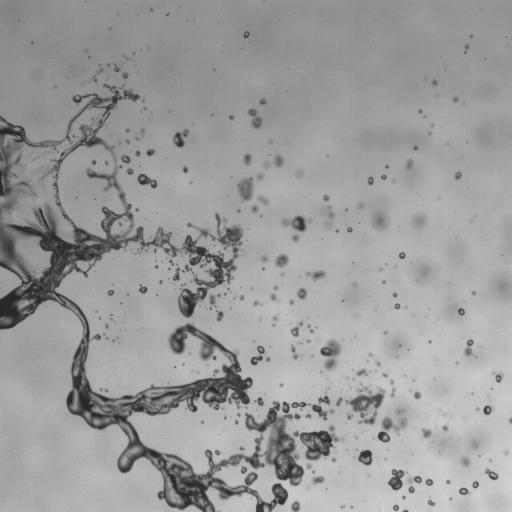droplet: (336, 383, 385, 425), (388, 469, 421, 493), (377, 417, 407, 442), (320, 339, 341, 370), (309, 394, 334, 420), (282, 215, 311, 232), (237, 177, 253, 202), (371, 213, 389, 230), (173, 129, 188, 147), (358, 449, 372, 465), (306, 270, 325, 280), (275, 254, 288, 267), (413, 214, 425, 228), (485, 468, 498, 479), (296, 288, 307, 299), (492, 371, 503, 382), (274, 155, 283, 167), (483, 405, 493, 415), (421, 428, 431, 438), (257, 195, 268, 204), (291, 500, 300, 511), (243, 153, 251, 165), (312, 476, 324, 484), (356, 368, 369, 375), (121, 154, 130, 163), (460, 457, 469, 466), (459, 487, 469, 495), (270, 293, 279, 301), (255, 397, 263, 406), (216, 311, 223, 321), (139, 285, 147, 293), (251, 204, 258, 213), (406, 159, 412, 169), (414, 391, 421, 399), (427, 499, 435, 506), (253, 300, 262, 306), (454, 172, 461, 179), (292, 234, 299, 241), (146, 149, 154, 155), (425, 479, 433, 485), (323, 194, 329, 201), (458, 308, 464, 315), (472, 481, 478, 488), (243, 31, 249, 37), (127, 168, 133, 174), (257, 173, 263, 179), (399, 252, 405, 258), (261, 256, 267, 262), (394, 303, 400, 309), (442, 425, 448, 431), (472, 442, 478, 448), (114, 64, 119, 71), (182, 166, 187, 173), (368, 177, 373, 184), (347, 412, 352, 419), (393, 504, 398, 511), (464, 45, 469, 51), (122, 72, 127, 78), (453, 96, 458, 102), (259, 99, 265, 104), (263, 162, 269, 167), (326, 222, 332, 227), (272, 315, 277, 321), (306, 463, 311, 469), (432, 80, 437, 85), (296, 171, 301, 176), (381, 174, 386, 179), (358, 203, 363, 208), (347, 227, 352, 232), (108, 290, 113, 295), (239, 295, 244, 300), (306, 413, 311, 418), (136, 151, 140, 156), (376, 361, 380, 366), (382, 373, 387, 377), (331, 457, 335, 462), (418, 109, 422, 113), (229, 115, 233, 119), (393, 293, 397, 297), (289, 300, 293, 304), (504, 450, 508, 454), (126, 128, 129, 132), (141, 129, 144, 133), (126, 139, 129, 143), (413, 146, 417, 149), (92, 160, 95, 164), (274, 286, 277, 290), (266, 357, 269, 361), (390, 380, 393, 384), (397, 410, 401, 413), (235, 420, 238, 424), (135, 137, 138, 140), (385, 165, 388, 168), (392, 179, 395, 182), (379, 268, 382, 271), (159, 280, 162, 283), (353, 283, 356, 286), (105, 324, 108, 327), (307, 339, 310, 342), (369, 353, 372, 356), (446, 480, 449, 483), (341, 505, 344, 508), (136, 208, 138, 211), (237, 210, 240, 212), (336, 229, 338, 232), (155, 265, 157, 268), (281, 273, 283, 276), (472, 292, 475, 294), (384, 331, 387, 333), (346, 376, 348, 379), (443, 413, 445, 416), (237, 414, 240, 416), (402, 496, 405, 498), (429, 132, 431, 134), (73, 135, 75, 137), (105, 162, 107, 164), (110, 317, 112, 319), (298, 341, 300, 343), (105, 389, 107, 391), (477, 408, 479, 410), (224, 416, 226, 418), (201, 421, 203, 423), (489, 459, 491, 461)
ligament: (0, 95, 334, 507), (137, 173, 157, 188), (250, 346, 265, 365), (248, 108, 262, 128), (290, 321, 303, 337), (464, 339, 473, 356), (92, 69, 102, 81), (325, 205, 334, 218), (291, 345, 298, 359), (307, 324, 313, 332), (390, 388, 395, 397), (509, 417, 511, 423), (402, 509, 408, 511)
